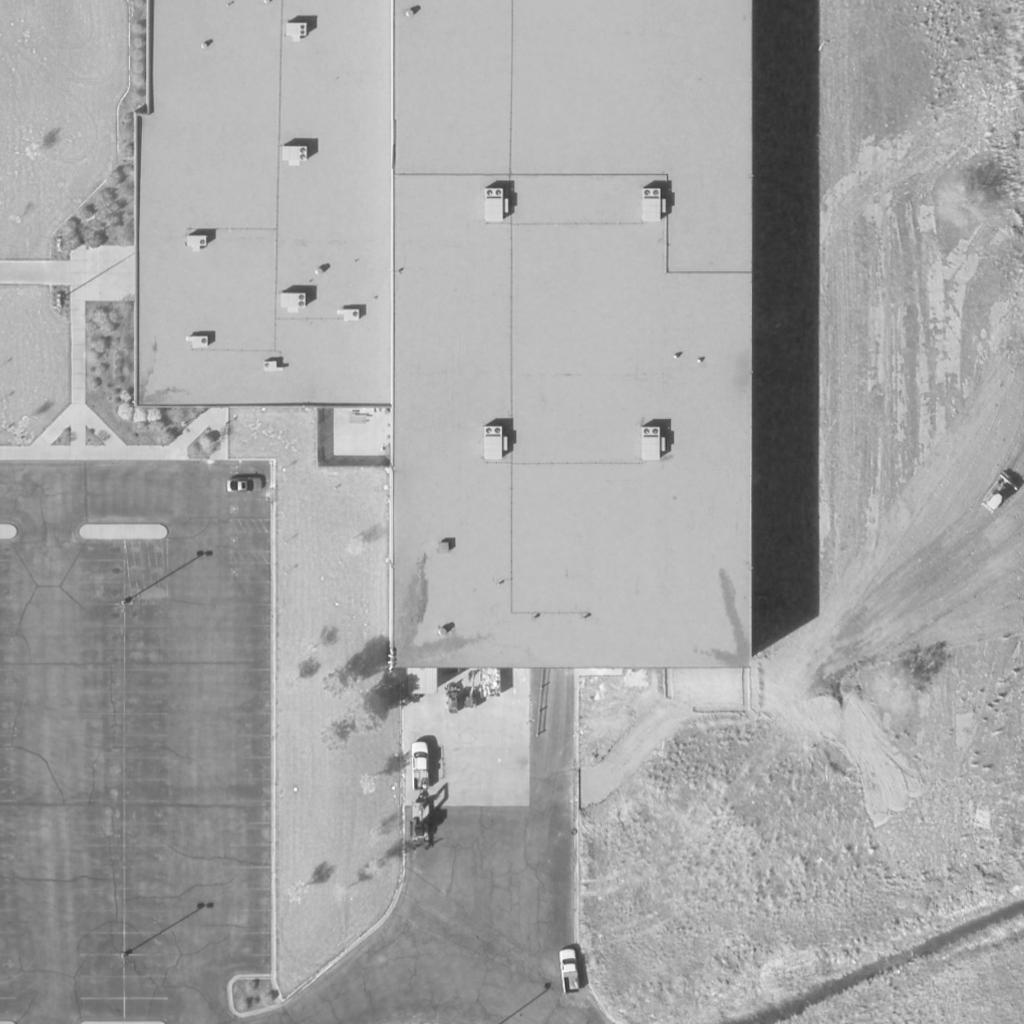vehicle: (982, 474, 1020, 514), (410, 741, 432, 789), (558, 949, 582, 993), (225, 479, 263, 493)
